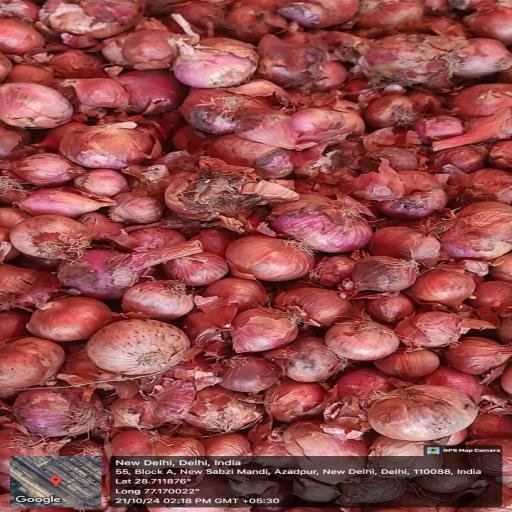damaged: (392, 392, 468, 425), (460, 208, 501, 250), (78, 260, 128, 285), (296, 350, 338, 378), (370, 261, 404, 286)
healthy: (0, 87, 81, 128), (383, 177, 451, 214), (191, 46, 255, 80), (110, 336, 175, 365), (244, 242, 304, 273), (338, 326, 388, 354), (30, 224, 80, 249), (287, 2, 340, 24), (42, 304, 86, 330), (145, 285, 183, 311), (24, 156, 65, 177)
rotten: (130, 390, 244, 426), (286, 202, 367, 242), (37, 388, 98, 431), (388, 49, 444, 88), (54, 1, 122, 31), (192, 178, 250, 209), (206, 100, 263, 128), (292, 47, 337, 82), (423, 319, 453, 343)
